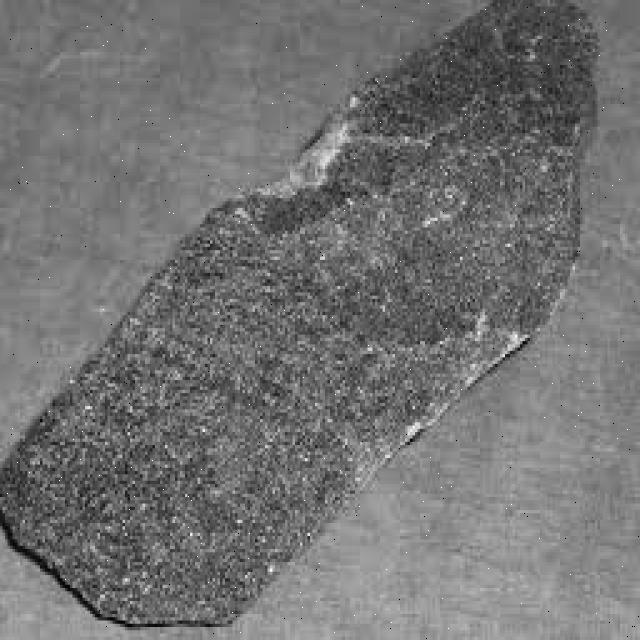Metamorphic: (3, 10, 625, 627)
